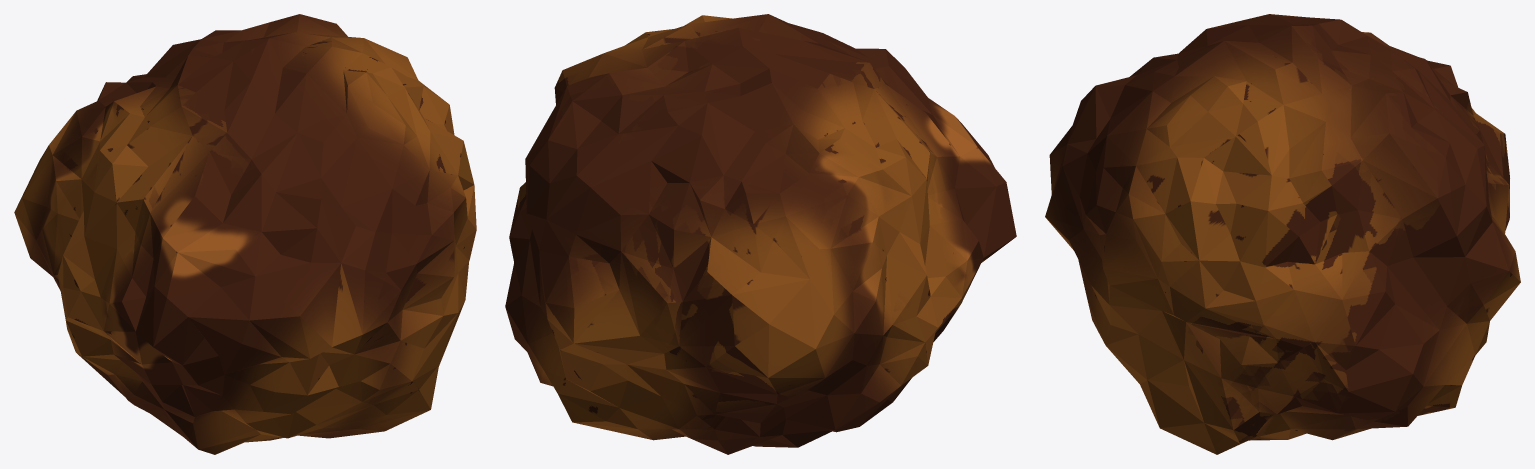
The model's file is Eleonora-f888.glb.
The picture shows the model from 3 angles, left to right: view 1: azimuth 30°, elevation 25°; view 2: azimuth 150°, elevation 25°; view 3: azimuth 270°, elevation 25°; orthographic projection. The views are drawn at different scales.
Visible parts, largest first — view 1: Eleonora; view 2: Eleonora; view 3: Eleonora.
Boxes of the visible parts, x1=… form: Eleonora: x1=14, y1=14, x2=476, y2=454; Eleonora: x1=505, y1=14, x2=1016, y2=454; Eleonora: x1=1045, y1=14, x2=1520, y2=454.
Bounding box in the file's own units: 4.32 × 4.09 × 4.52.
Materials: 1 (1 with a texture image).
